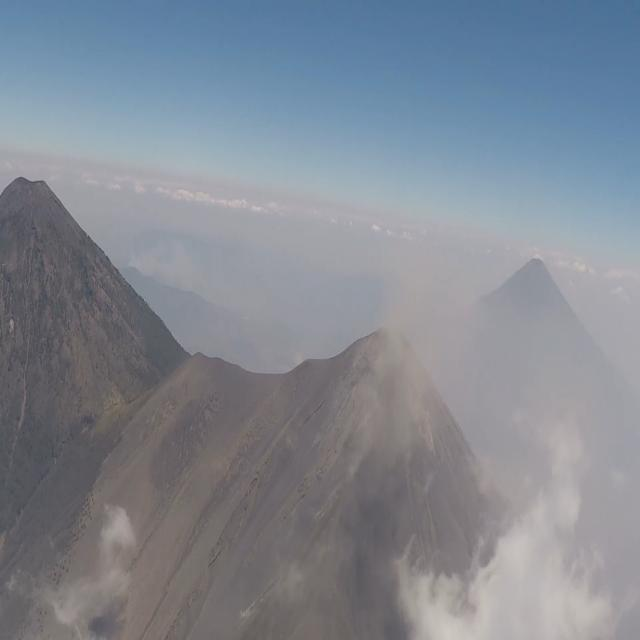Summit: (310, 318, 464, 441)
